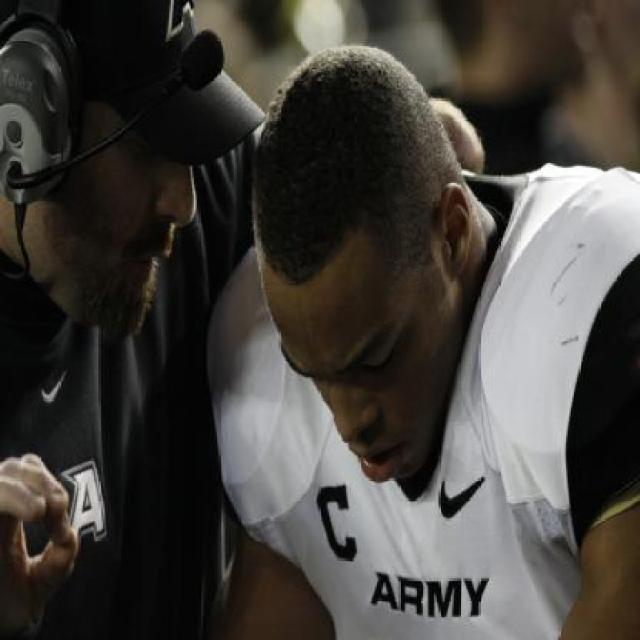earphone: (0, 10, 115, 243)
